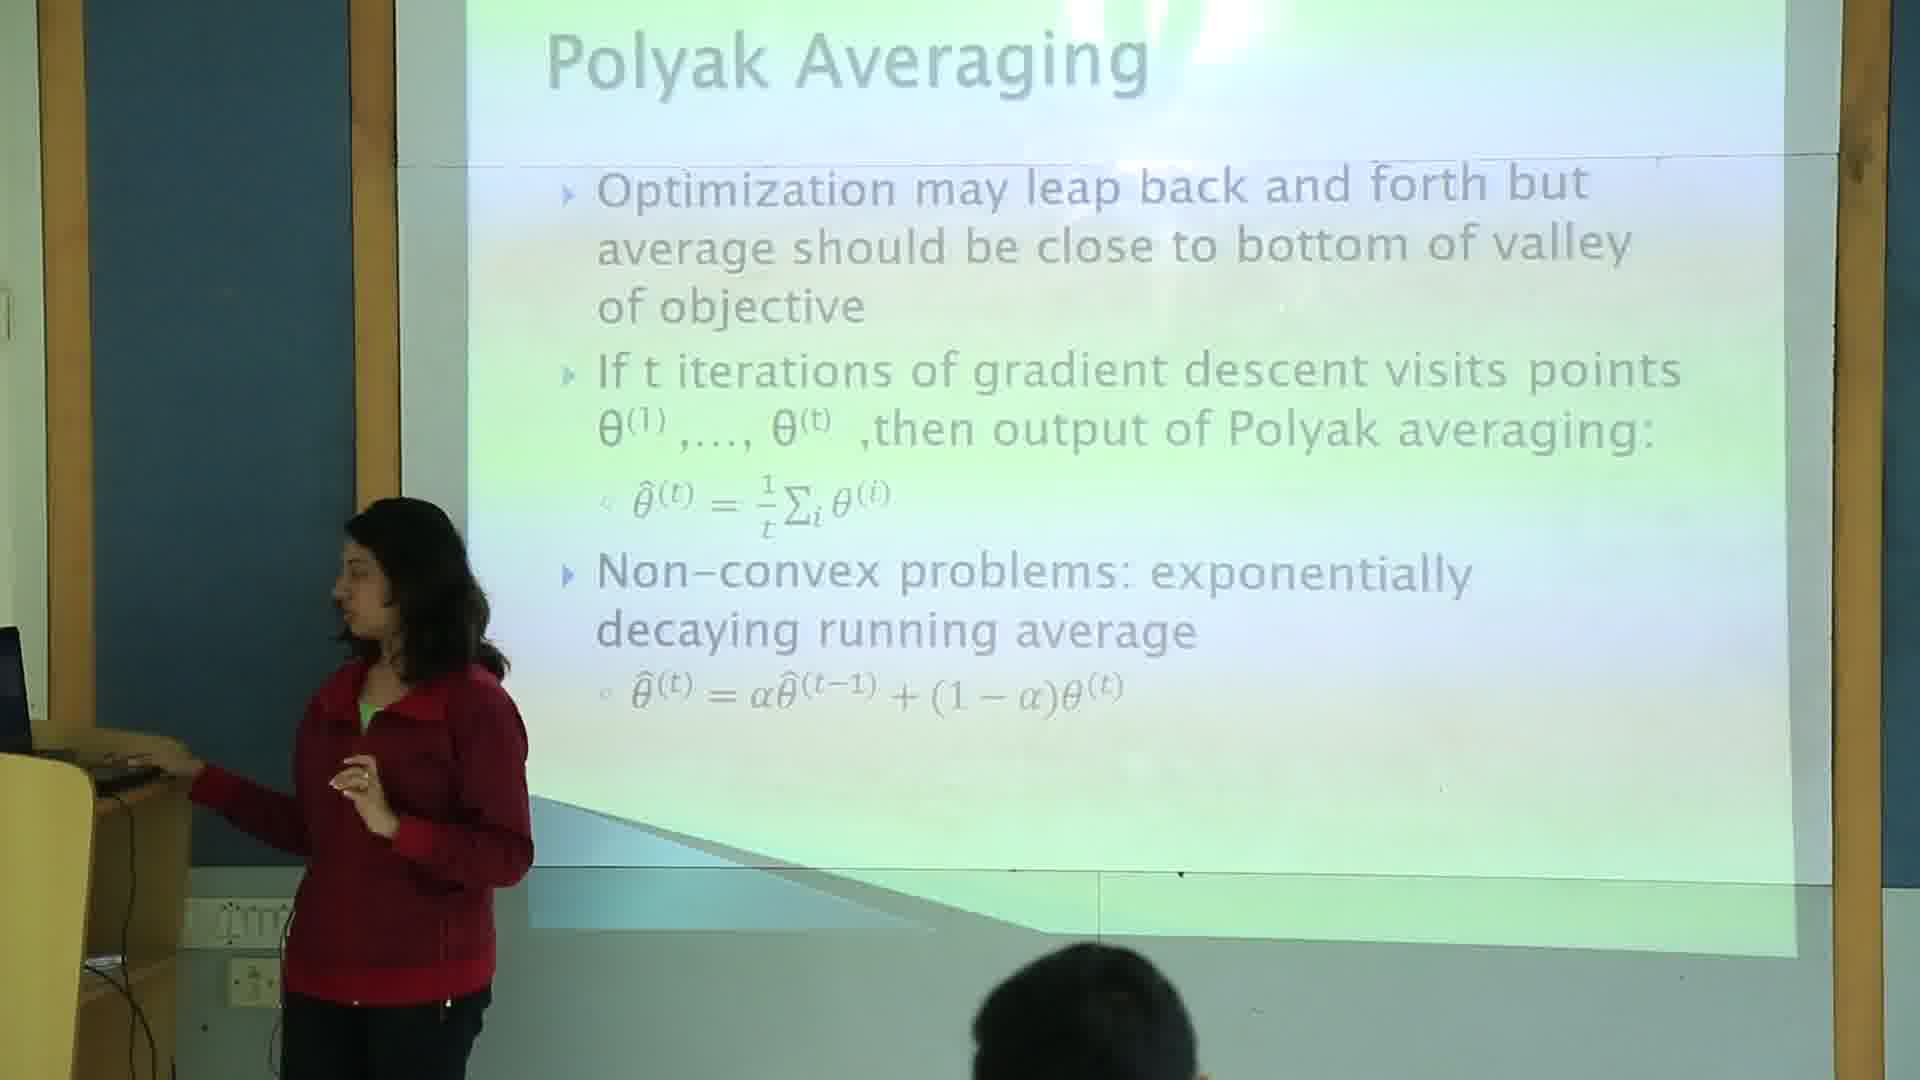eq: (626, 662, 1131, 728), (626, 465, 899, 546)
